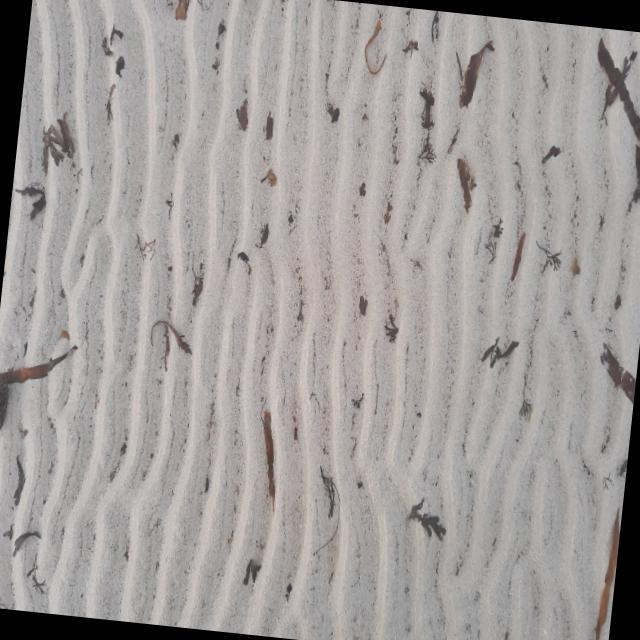white-sand: (438, 179, 448, 189)
